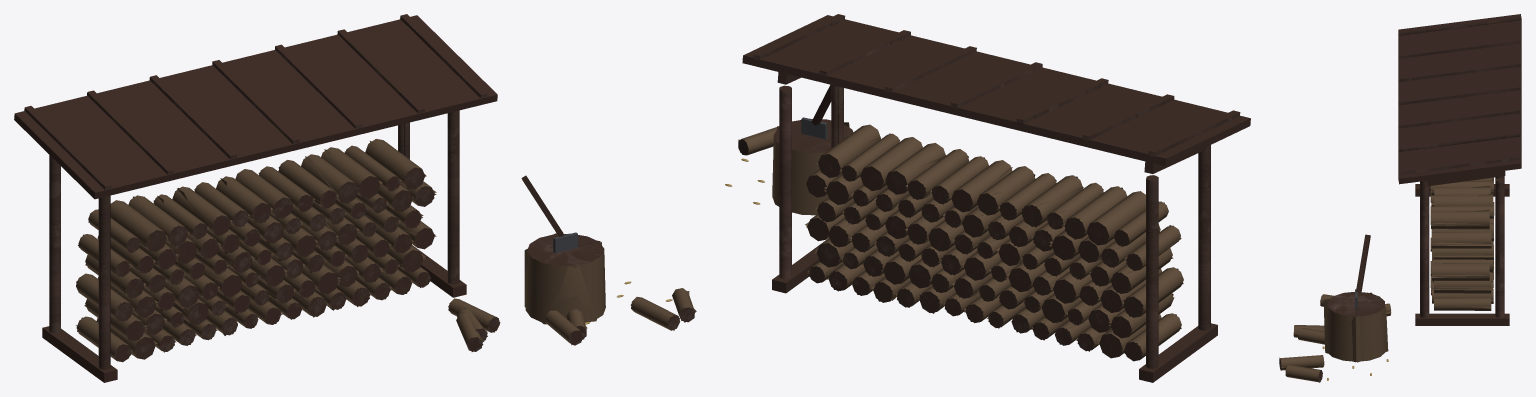
File: prop_firewood_stack.gltf
The picture shows the model from 3 angles, left to right: view 1: azimuth 30°, elevation 25°; view 2: azimuth 150°, elevation 25°; view 3: azimuth 270°, elevation 25°; orthographic projection. The views are drawn at different scales.
Visible parts, largest first — view 1: Far, Near; view 2: Far, Near; view 3: Far, Near.
Part boxes in pixels (x1,y1,x2,y2): Far: (14,14,696,382); Near: (24,16,694,369); Far: (738,14,1250,382); Near: (725,16,1240,368); Far: (1279,14,1521,382); Near: (1279,16,1521,382).
Size of the model in its own units: 4.03 by 1.62 by 2.06.
7 materials, 3 textured.
